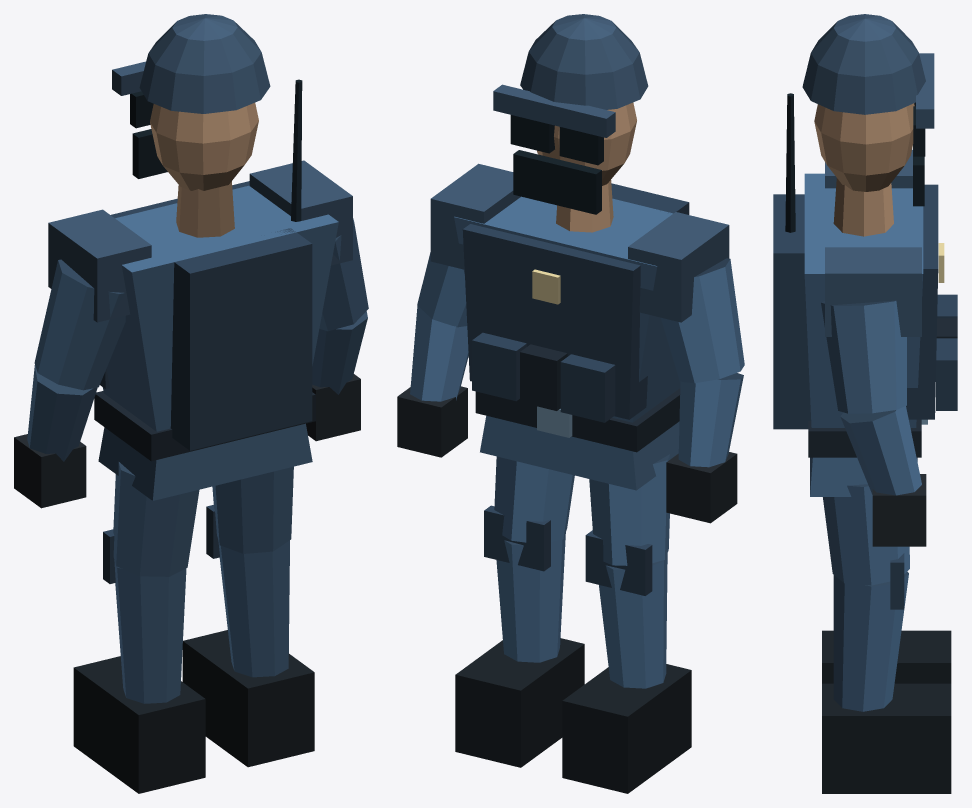
The model's file is counter_terrorist.obj.
3 views of the same model, side by side, from view 1: azimuth 30°, elevation 25°; view 2: azimuth 150°, elevation 25°; view 3: azimuth 270°, elevation 25° (orthographic). The views are drawn at different scales.
Visible parts, largest first — view 1: counter_terrorist; view 2: counter_terrorist; view 3: counter_terrorist.
Part boxes in pixels (x1,y1,x2,y2): counter_terrorist: (14, 14, 368, 793); counter_terrorist: (397, 14, 744, 793); counter_terrorist: (773, 14, 957, 793).
Size of the model in its own units: 34.8 by 75 by 17.1.
1 material, 1 textured.
